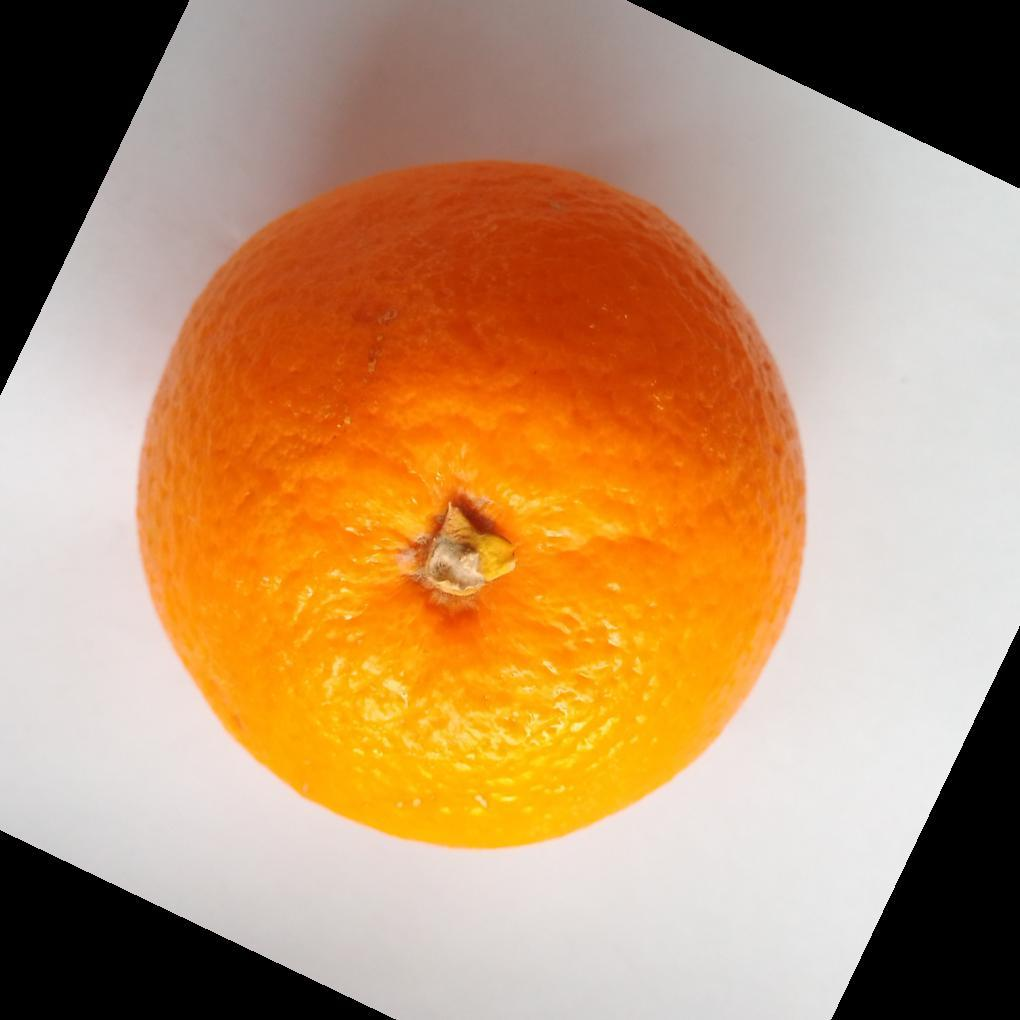FreshGuava: (133, 160, 810, 855)
